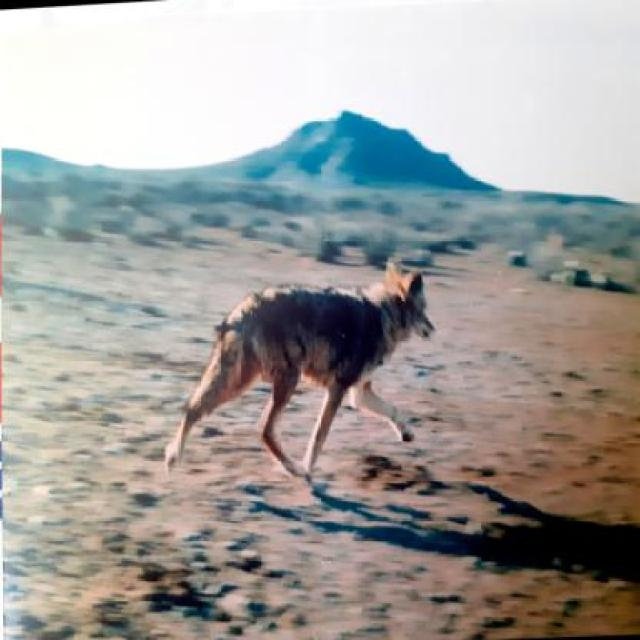Coyote: (165, 258, 437, 476)
